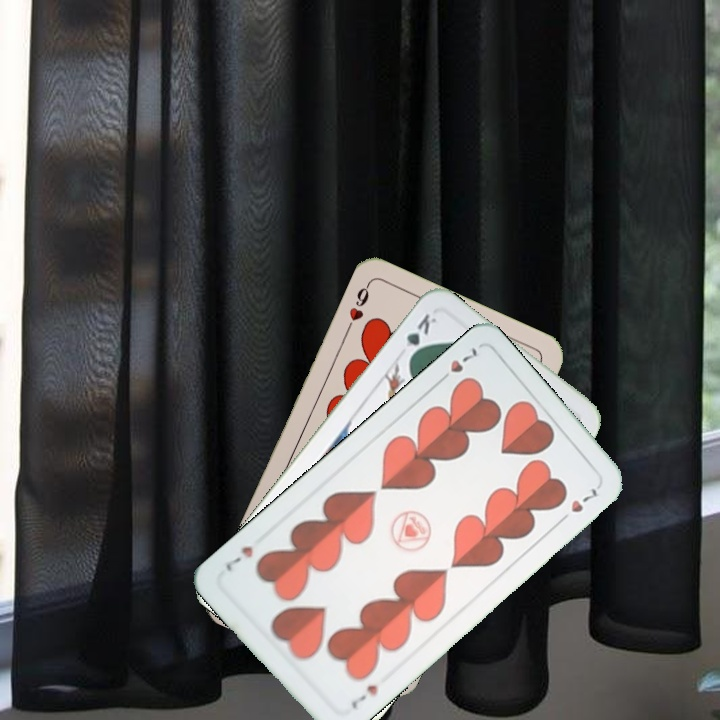GK: (401, 310, 439, 364)
H7: (433, 343, 480, 387), (346, 680, 381, 712)
H9: (341, 280, 373, 335)
